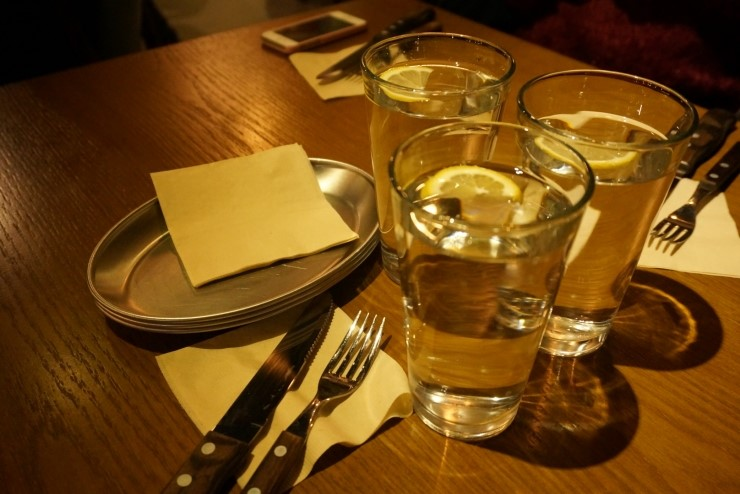glass of water: (391, 139, 532, 441), (378, 46, 497, 282), (543, 91, 627, 346)
